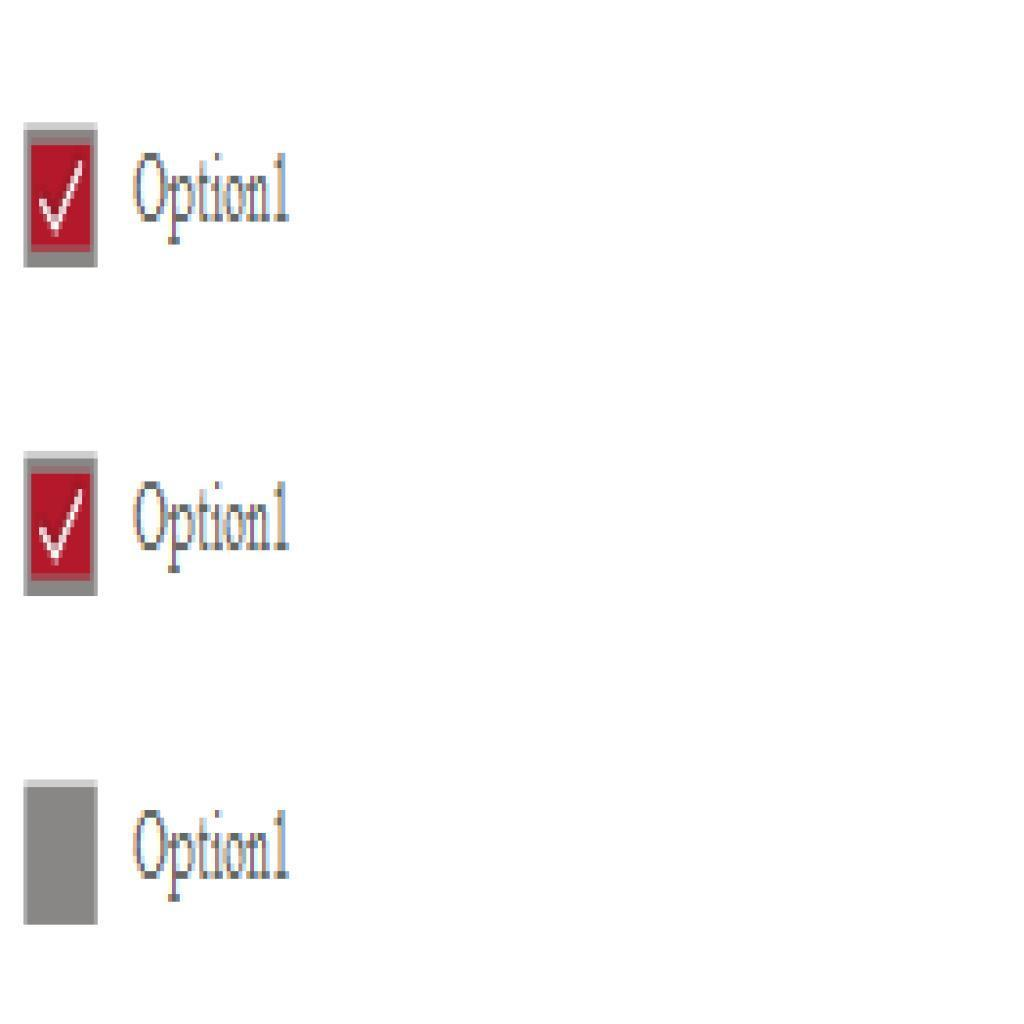checkbox: (22, 782, 100, 926), (23, 129, 98, 270), (26, 459, 100, 599)
label: (125, 470, 297, 584), (130, 144, 299, 252), (128, 805, 295, 906)
